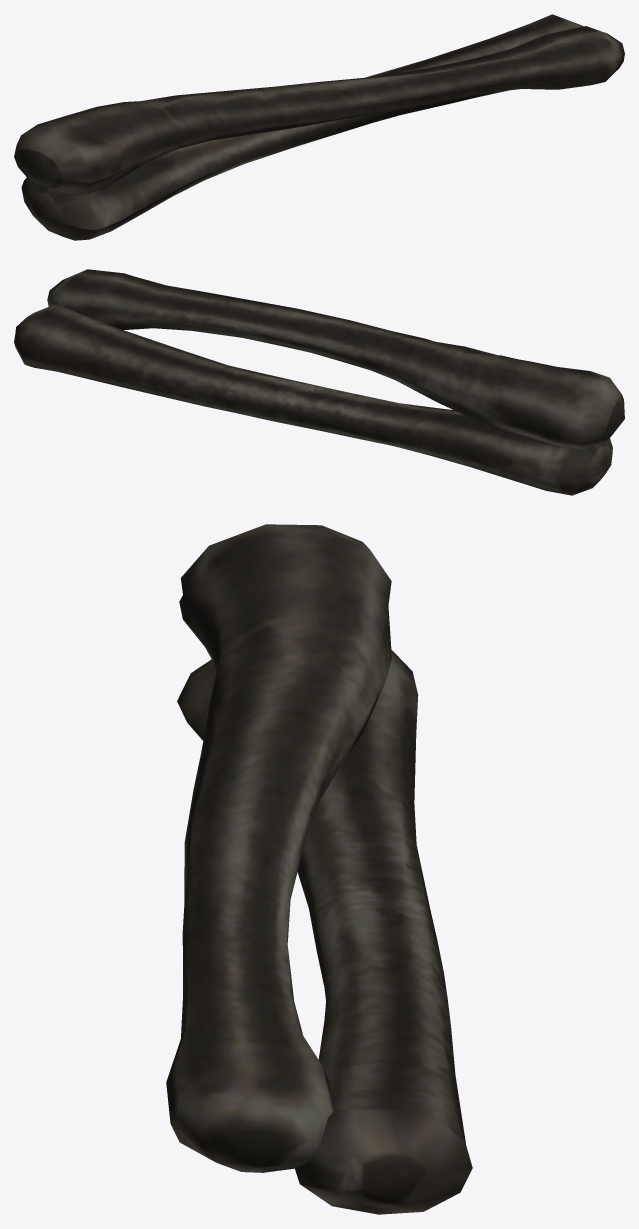
File: left_arm_1.obj
3 views of the same model, one above another, from view 1: azimuth 30°, elevation 25°; view 2: azimuth 150°, elevation 25°; view 3: azimuth 270°, elevation 25° (orthographic). The views are drawn at different scales.
Parts seen in each view (by area): view 1: arm_2_izq_Material; view 2: arm_2_izq_Material; view 3: arm_2_izq_Material.
Part boxes in pixels (x1,y1,x2,y2): arm_2_izq_Material: (14,14,624,240); arm_2_izq_Material: (14,269,624,495); arm_2_izq_Material: (166,524,472,1214).
Size of the model in its own units: 0.241 by 0.0428 by 0.0551.
